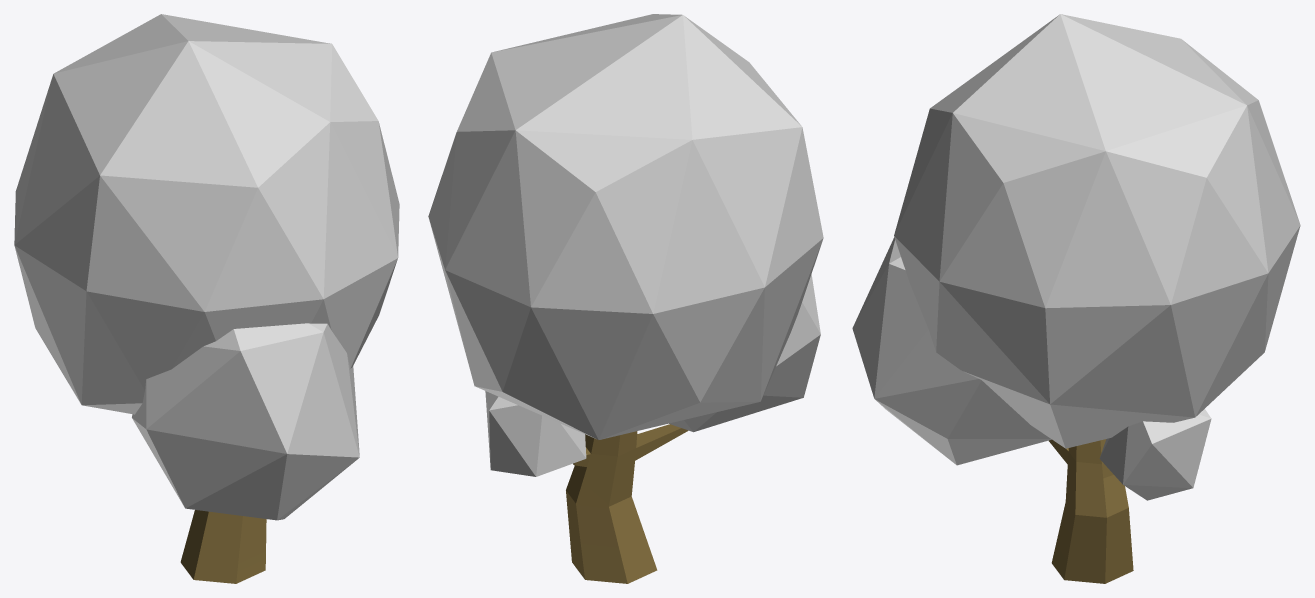
The model's file is WinterTree1.gltf.
3 views of the same model, side by side, from view 1: azimuth 30°, elevation 25°; view 2: azimuth 150°, elevation 25°; view 3: azimuth 270°, elevation 25° (orthographic). The views are drawn at different scales.
Parts seen in each view (by area): view 1: Icosphere.007, Cylinder.008; view 2: Icosphere.007, Cylinder.008; view 3: Icosphere.007, Cylinder.008.
Boxes of the visible parts, <box> form: Icosphere.007: <box>14,14,399,520</box>; Cylinder.008: <box>180,510,266,583</box>; Icosphere.007: <box>428,14,823,476</box>; Cylinder.008: <box>566,424,688,583</box>; Icosphere.007: <box>852,14,1300,500</box>; Cylinder.008: <box>1049,439,1133,583</box>.
Bounding box in the file's own units: 10.08 × 15.99 × 12.28.
